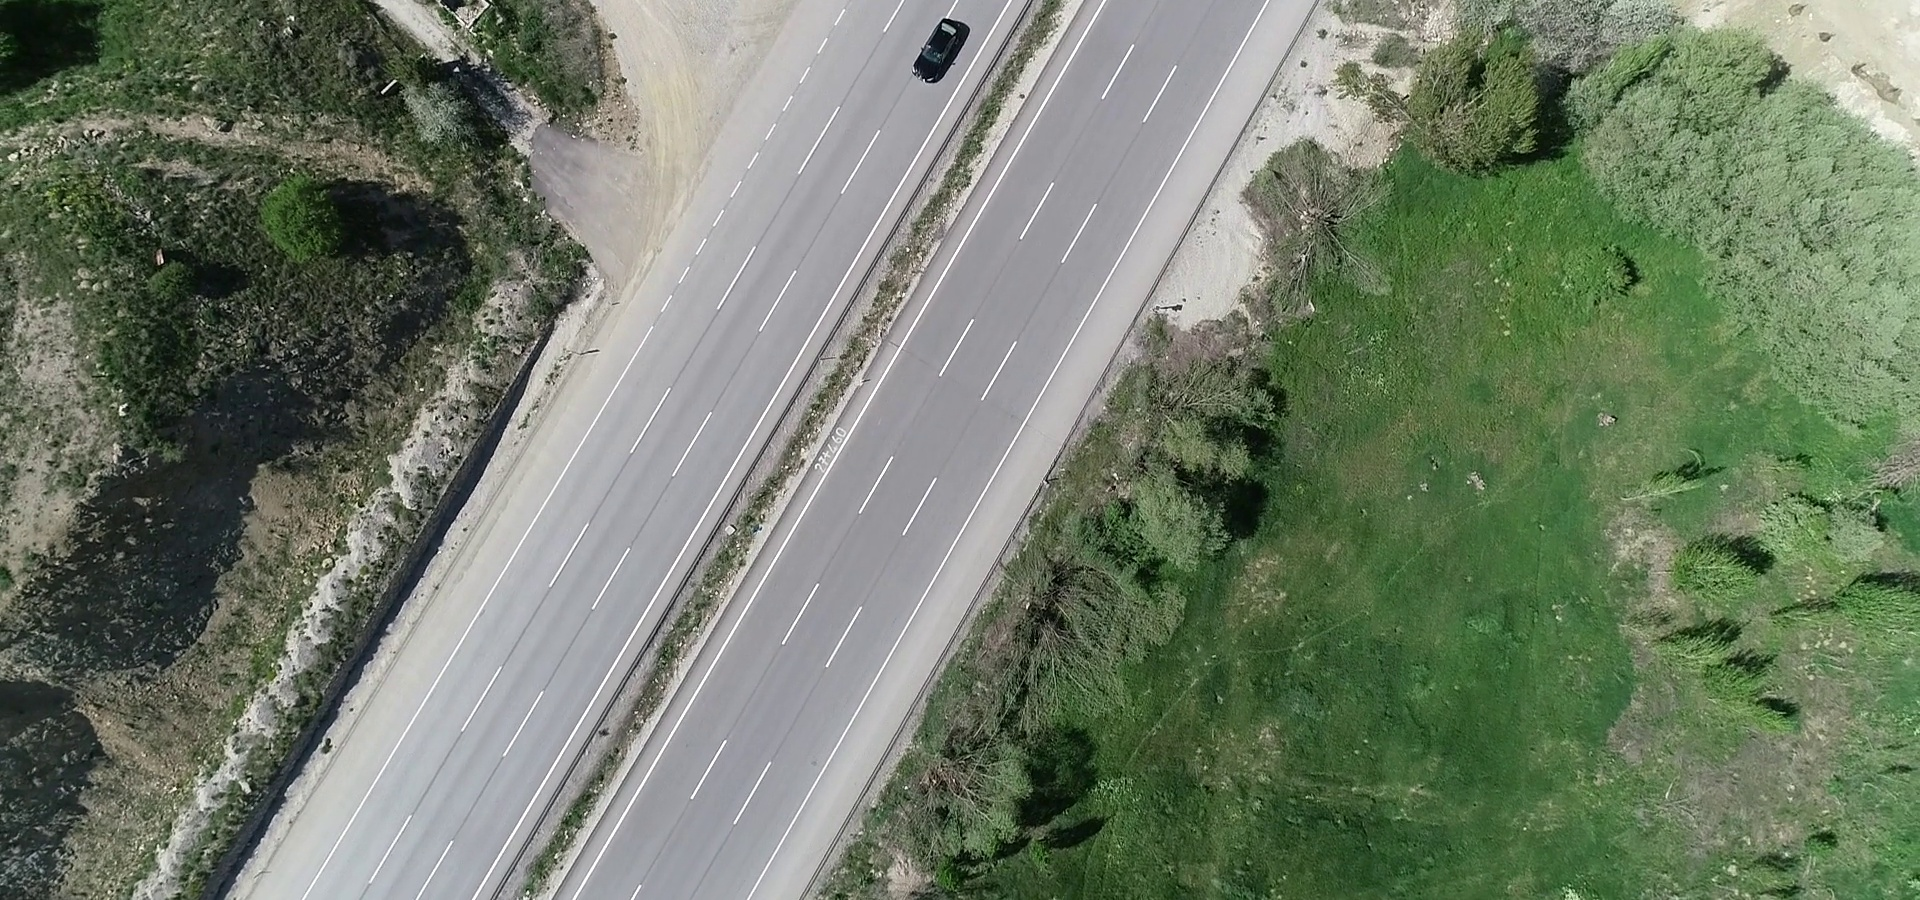arac: (902, 10, 969, 88)
